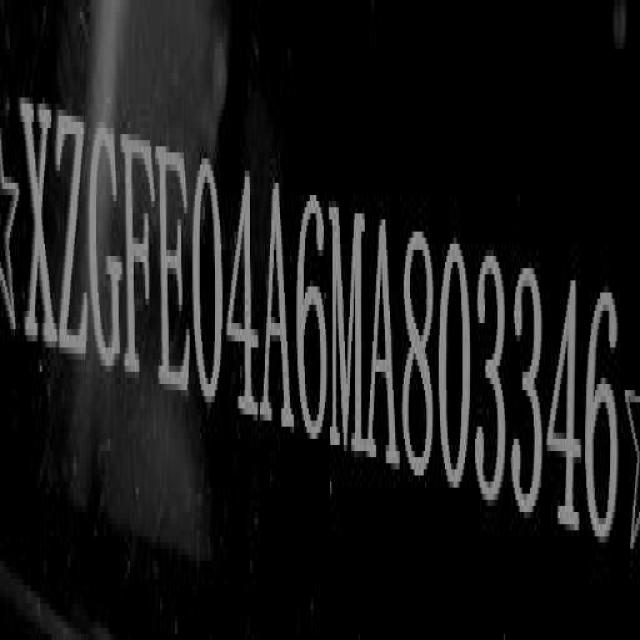0: (194, 151, 225, 420), (438, 232, 469, 494)
3: (475, 243, 509, 514), (513, 255, 546, 528)
4: (226, 156, 261, 432), (548, 270, 583, 546)
6: (586, 276, 624, 554), (297, 176, 330, 454)
8: (401, 219, 435, 490)
A: (370, 198, 398, 474), (264, 170, 292, 445)
E: (158, 135, 192, 412)
F: (123, 120, 157, 405)
G: (90, 112, 125, 384)
M: (330, 188, 367, 466)
X: (17, 86, 58, 352)
Z: (54, 99, 86, 374)
